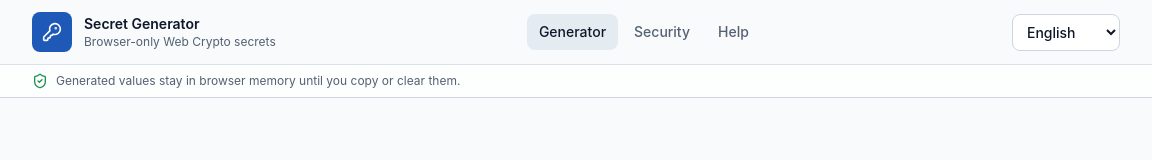
Test case: Header language switcher › switches visible navigation labels between English and Japanese
Select "Japanese" in the dropdown at [1066, 32], box [1012,14,1120,50]
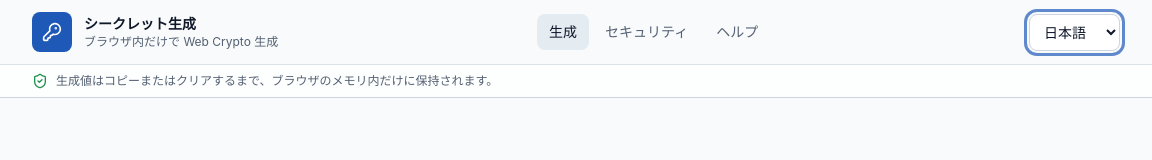
Expected: the button "生成" is shown, [537,14,589,50]
Select "English" in the dropdown at [1074, 32], box [1029,14,1120,50]
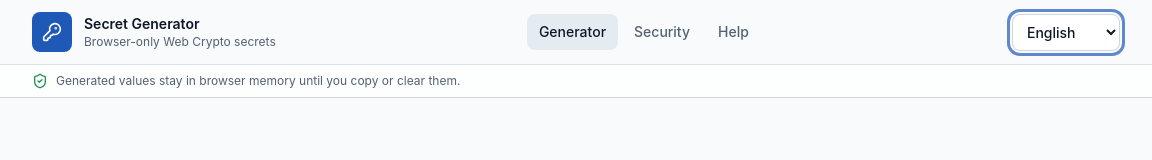
Expected: the button "Generator" is shown, [527,14,618,50]
